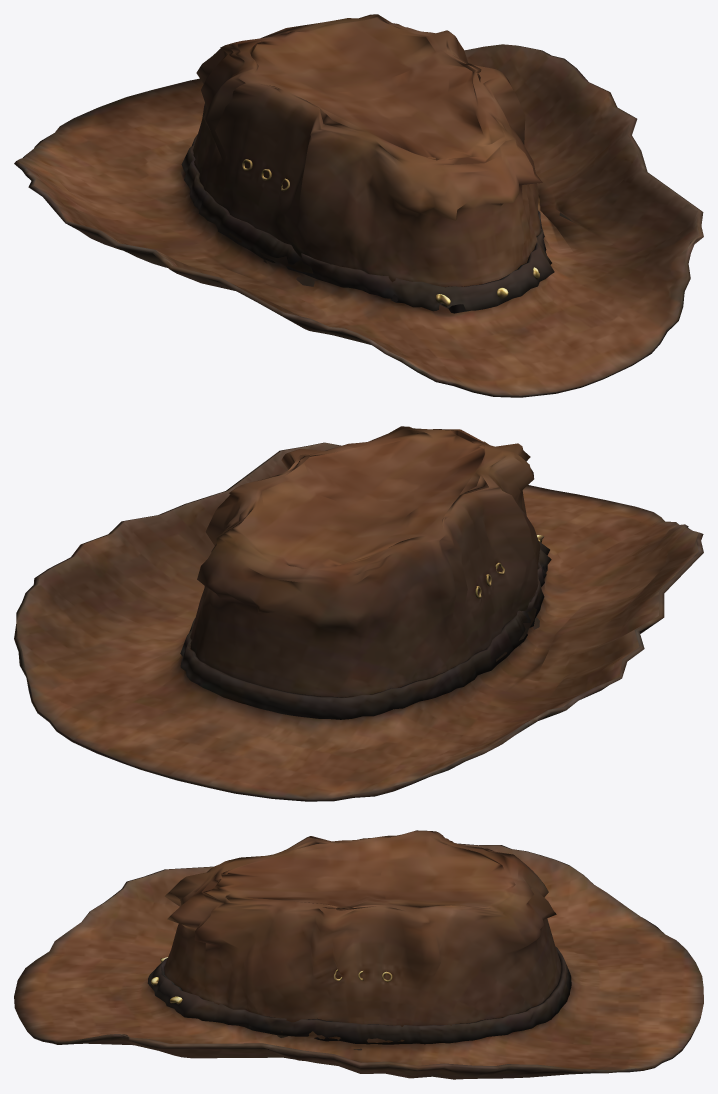
Rendered from croc_hat_cowboy.glb.
3 views of the same model, one above another, from view 1: azimuth 30°, elevation 25°; view 2: azimuth 150°, elevation 25°; view 3: azimuth 270°, elevation 25° (orthographic). The views are drawn at different scales.
Parts seen in each view (by area): view 1: CrocHat_cowboy; view 2: CrocHat_cowboy; view 3: CrocHat_cowboy.
Boxes of the visible parts, x1,y1,x2,y2 form: CrocHat_cowboy: (14,14,703,397); CrocHat_cowboy: (14,426,703,801); CrocHat_cowboy: (14,830,703,1079).
Bounding box in the file's own units: 0.4129 × 0.1165 × 0.5278.
Materials: 3 (3 with a texture image).
